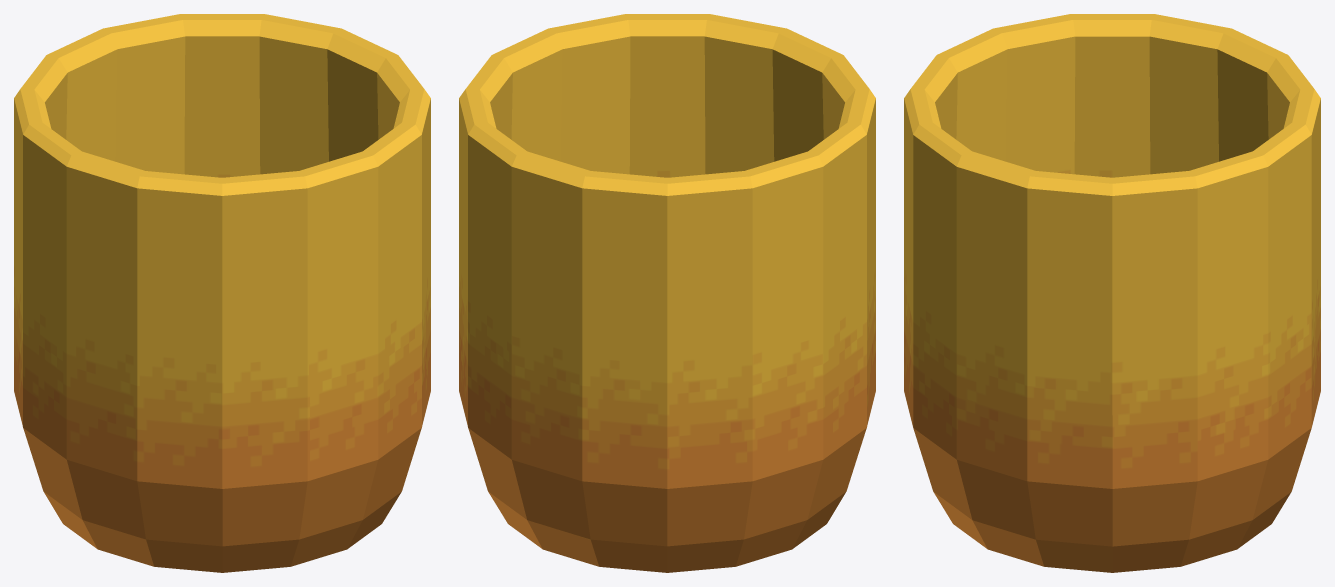
Rendered from Vaso.fbx.
3 views of the same model, side by side, from view 1: azimuth 30°, elevation 25°; view 2: azimuth 150°, elevation 25°; view 3: azimuth 270°, elevation 25° (orthographic).
Parts seen in each view (by area): view 1: vaso; view 2: vaso; view 3: vaso.
Boxes of the visible parts, <box> form: vaso: <box>14,14,430,572</box>; vaso: <box>459,14,875,572</box>; vaso: <box>904,14,1320,572</box>.
Bounding box in the file's own units: 1.44 × 1.55 × 1.45.
